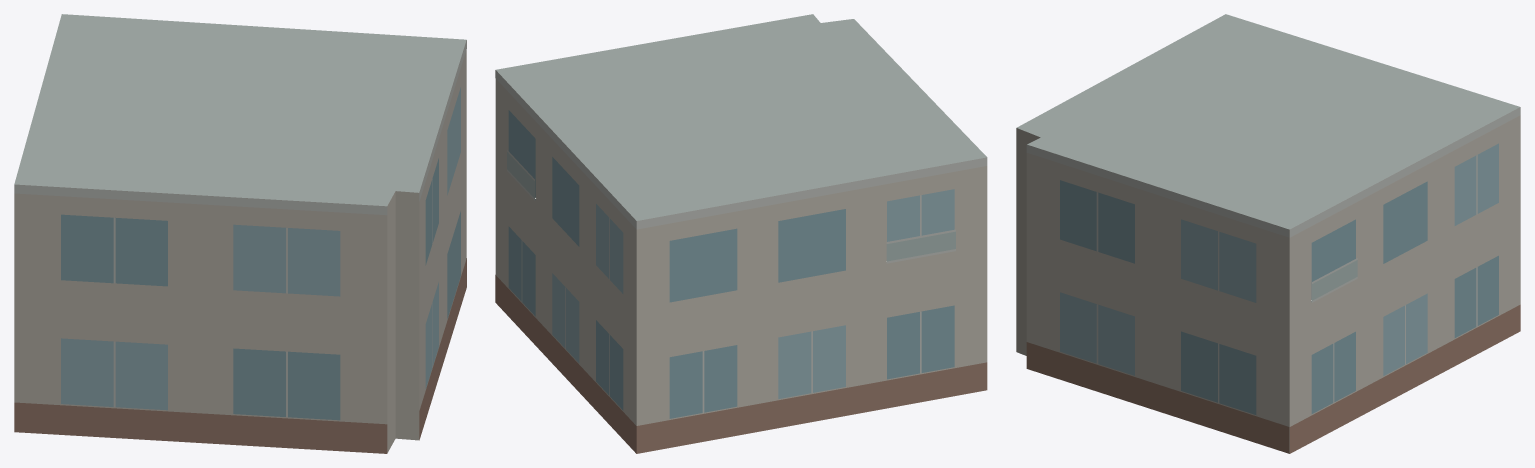
Rendered from survey-upis-32629472.glb.
The picture shows the model from 3 angles, left to right: view 1: azimuth 30°, elevation 25°; view 2: azimuth 150°, elevation 25°; view 3: azimuth 270°, elevation 25°; orthographic projection. The views are drawn at different scales.
Visible parts, largest first — view 1: survey-upis-32629472.tmp; view 2: survey-upis-32629472.tmp; view 3: survey-upis-32629472.tmp.
Boxes of the visible parts, left/top/right/bottom form: survey-upis-32629472.tmp: left=14, top=14, right=466, bottom=453; survey-upis-32629472.tmp: left=495, top=14, right=987, bottom=453; survey-upis-32629472.tmp: left=1016, top=14, right=1520, bottom=453.
Size of the model in its own units: 13.82 by 6.7 by 13.66.
